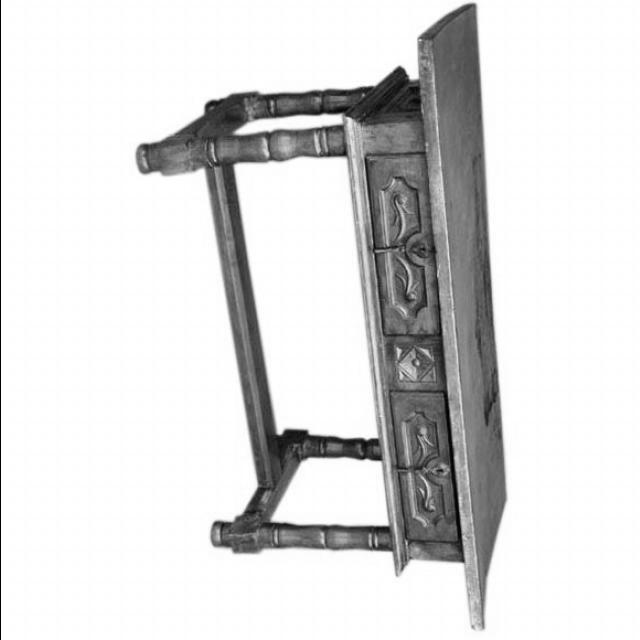table: (136, 6, 504, 628)
